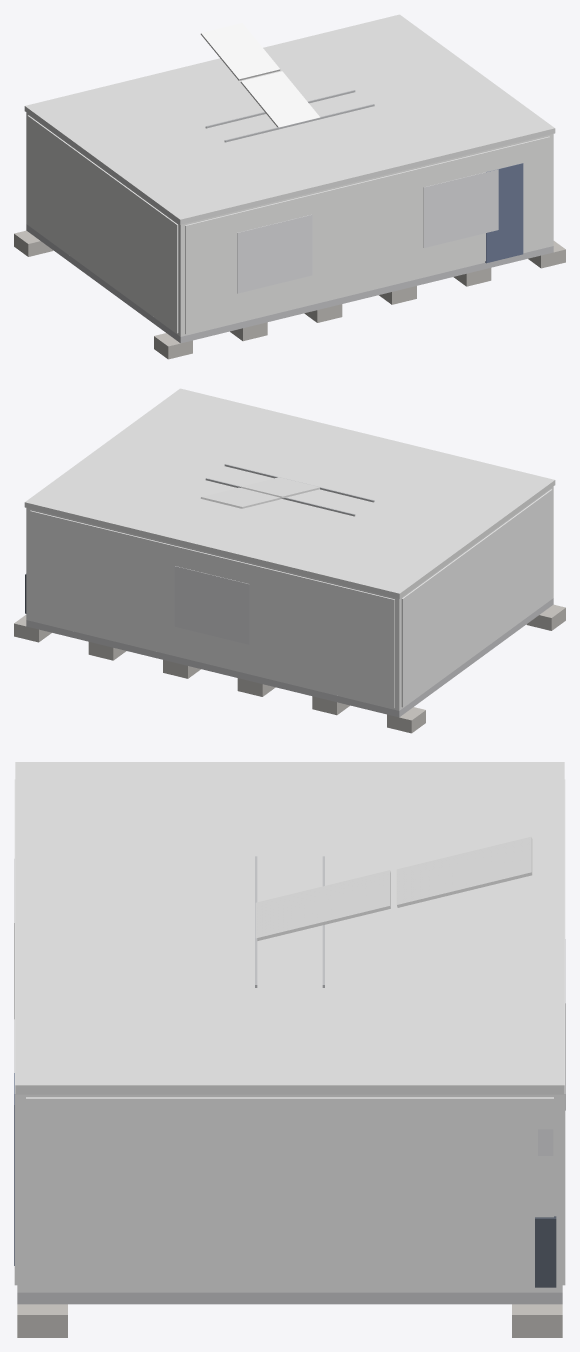
File: Studio-30-Premium+FullSolar-LOD0.glb
The picture shows the model from 3 angles, top to bottom: view 1: azimuth 30°, elevation 25°; view 2: azimuth 150°, elevation 25°; view 3: azimuth 270°, elevation 25°; orthographic projection. The views are drawn at different scales.
Visible parts, largest first — view 1: RoofMain, ExteriorPanelsPremium, WindowsLargeUpgrade, SolarPanelArray, BaseFrame, FoundationBlocks, ExteriorShell, EntryDoor, SolarMountingHardware; view 2: RoofMain, ExteriorPanelsPremium, WindowsLargeUpgrade, BaseFrame, FoundationBlocks, ExteriorShell, SolarPanelArray, SolarMountingHardware; view 3: RoofMain, ExteriorPanelsPremium, SolarPanelArray, ExteriorShell, BaseFrame, FoundationBlocks, SolarBattery.
Boxes of the visible parts, left/top/right/bottom form: RoofMain: left=24, top=14, right=555, bottom=224; ExteriorPanelsPremium: left=27, top=115, right=550, bottom=334; WindowsLargeUpgrade: left=237, top=169, right=498, bottom=293; SolarPanelArray: left=200, top=23, right=319, bottom=127; BaseFrame: left=26, top=224, right=553, bottom=343; FoundationBlocks: left=14, top=230, right=565, bottom=359; ExteriorShell: left=26, top=112, right=553, bottom=336; EntryDoor: left=485, top=163, right=523, bottom=263; SolarMountingHardware: left=205, top=90, right=374, bottom=142; RoofMain: left=24, top=388, right=555, bottom=598; ExteriorPanelsPremium: left=30, top=489, right=552, bottom=708; WindowsLargeUpgrade: left=174, top=566, right=249, bottom=644; BaseFrame: left=26, top=598, right=553, bottom=717; FoundationBlocks: left=14, top=604, right=565, bottom=733; ExteriorShell: left=26, top=486, right=553, bottom=710; SolarPanelArray: left=200, top=477, right=319, bottom=508; SolarMountingHardware: left=205, top=464, right=374, bottom=516; RoofMain: left=15, top=762, right=564, bottom=1094; ExteriorPanelsPremium: left=14, top=779, right=565, bottom=1289; SolarPanelArray: left=255, top=836, right=532, bottom=940; ExteriorShell: left=17, top=1094, right=562, bottom=1292; BaseFrame: left=17, top=1292, right=562, bottom=1304; FoundationBlocks: left=17, top=1304, right=562, bottom=1337; SolarBattery: left=535, top=1216, right=556, bottom=1287.
Size of the model in its own units: 9.6 by 4.07 by 6.53.
